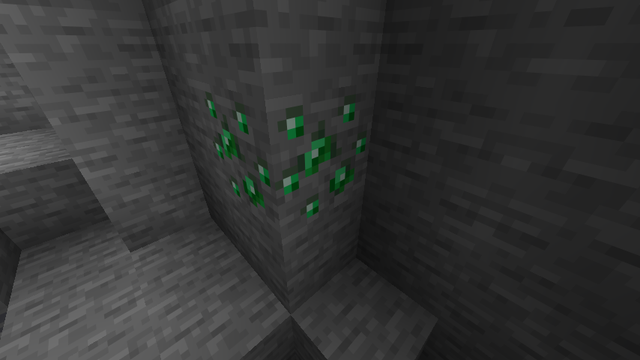emerald: (198, 86, 376, 228)
